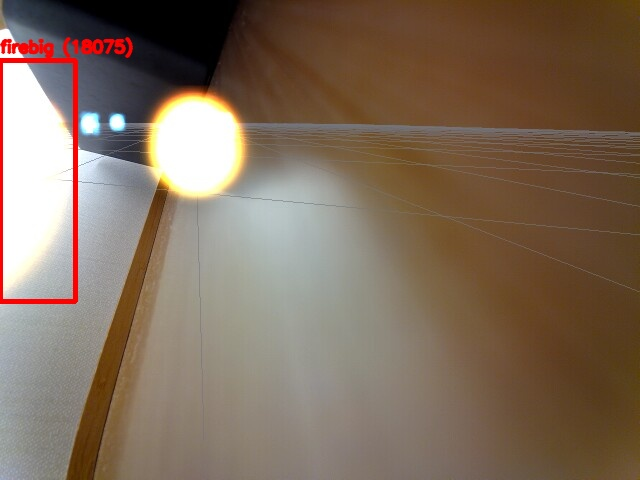firebig: (0, 60, 75, 301)
